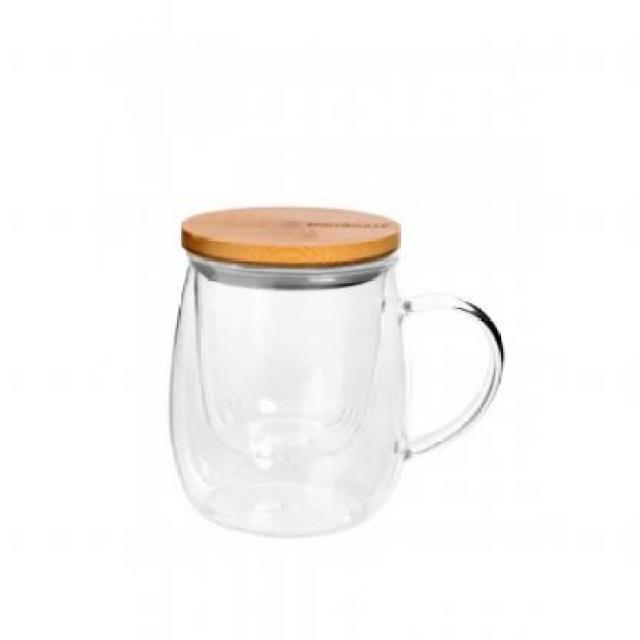taza: (169, 206, 509, 542)
